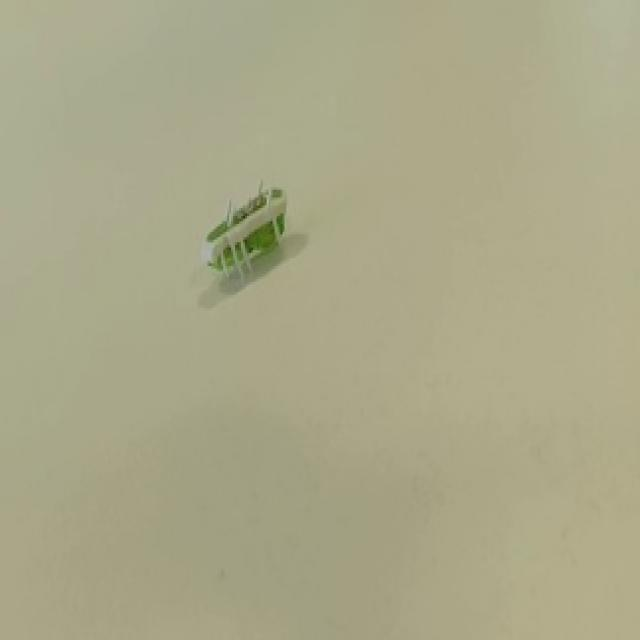4_NanoBug_Blanco: (168, 166, 358, 322)
